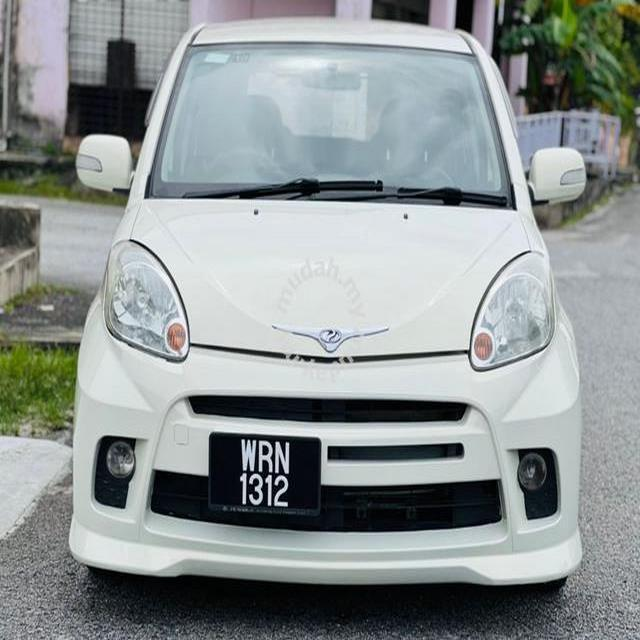License_Plate: (202, 428, 330, 529)
car: (60, 11, 608, 614)
